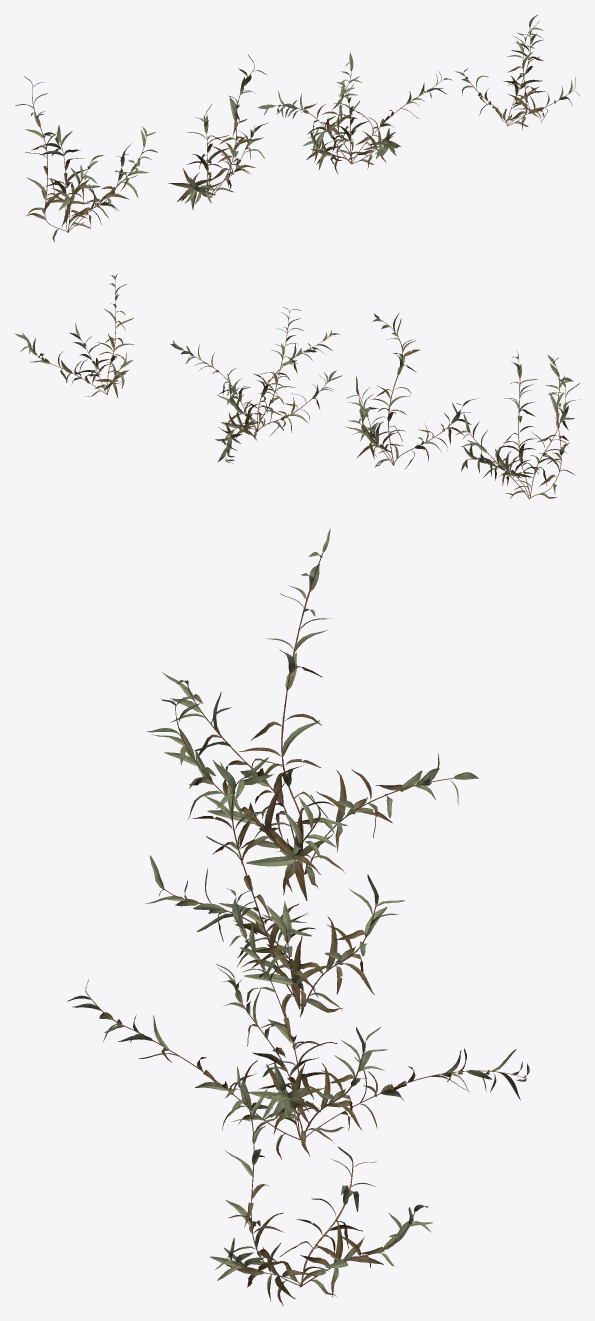
File: shrub_02_1k.gltf
The picture shows the model from 3 angles, top to bottom: view 1: azimuth 30°, elevation 25°; view 2: azimuth 150°, elevation 25°; view 3: azimuth 270°, elevation 25°; orthographic projection. The views are drawn at different scales.
Parts seen in each view (by area): view 1: shrub_02_c, shrub_02_a, shrub_02_b, shrub_02_d; view 2: shrub_02_a, shrub_02_c, shrub_02_b, shrub_02_d; view 3: shrub_02_a, shrub_02_c, shrub_02_b, shrub_02_d.
Part boxes in pixels (left/top/right/bottom): shrub_02_c: left=257, top=52, right=452, bottom=174; shrub_02_a: left=15, top=76, right=157, bottom=242; shrub_02_b: left=168, top=54, right=268, bottom=209; shrub_02_d: left=455, top=14, right=580, bottom=129; shrub_02_a: left=456, top=350, right=579, bottom=499; shrub_02_c: left=170, top=307, right=342, bottom=463; shrub_02_b: left=345, top=313, right=479, bottom=468; shrub_02_d: left=14, top=274, right=134, bottom=398; shrub_02_a: left=147, top=528, right=478, bottom=900; shrub_02_c: left=67, top=888, right=529, bottom=1159; shrub_02_b: left=145, top=757, right=404, bottom=1018; shrub_02_d: left=210, top=1066, right=432, bottom=1305.
Bounding box in the file's own units: 6.05 × 1.7 × 2.29.
Materials: 1 (1 with a texture image).
